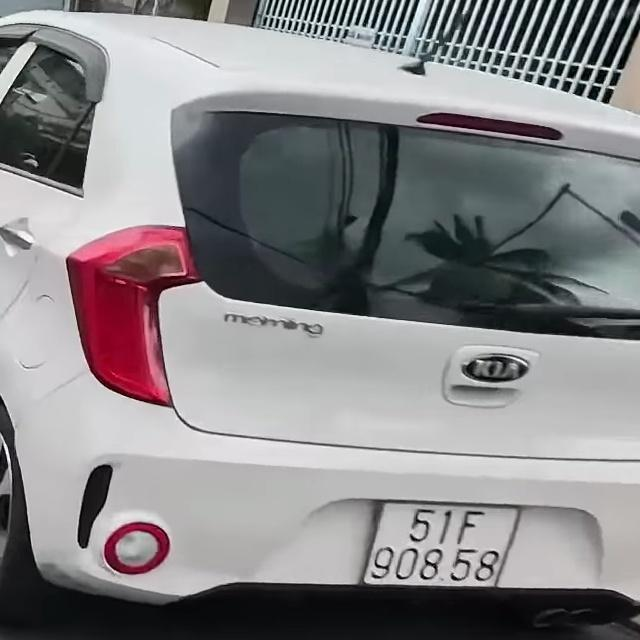car: (0, 10, 640, 636)
plate: (360, 491, 519, 598)
